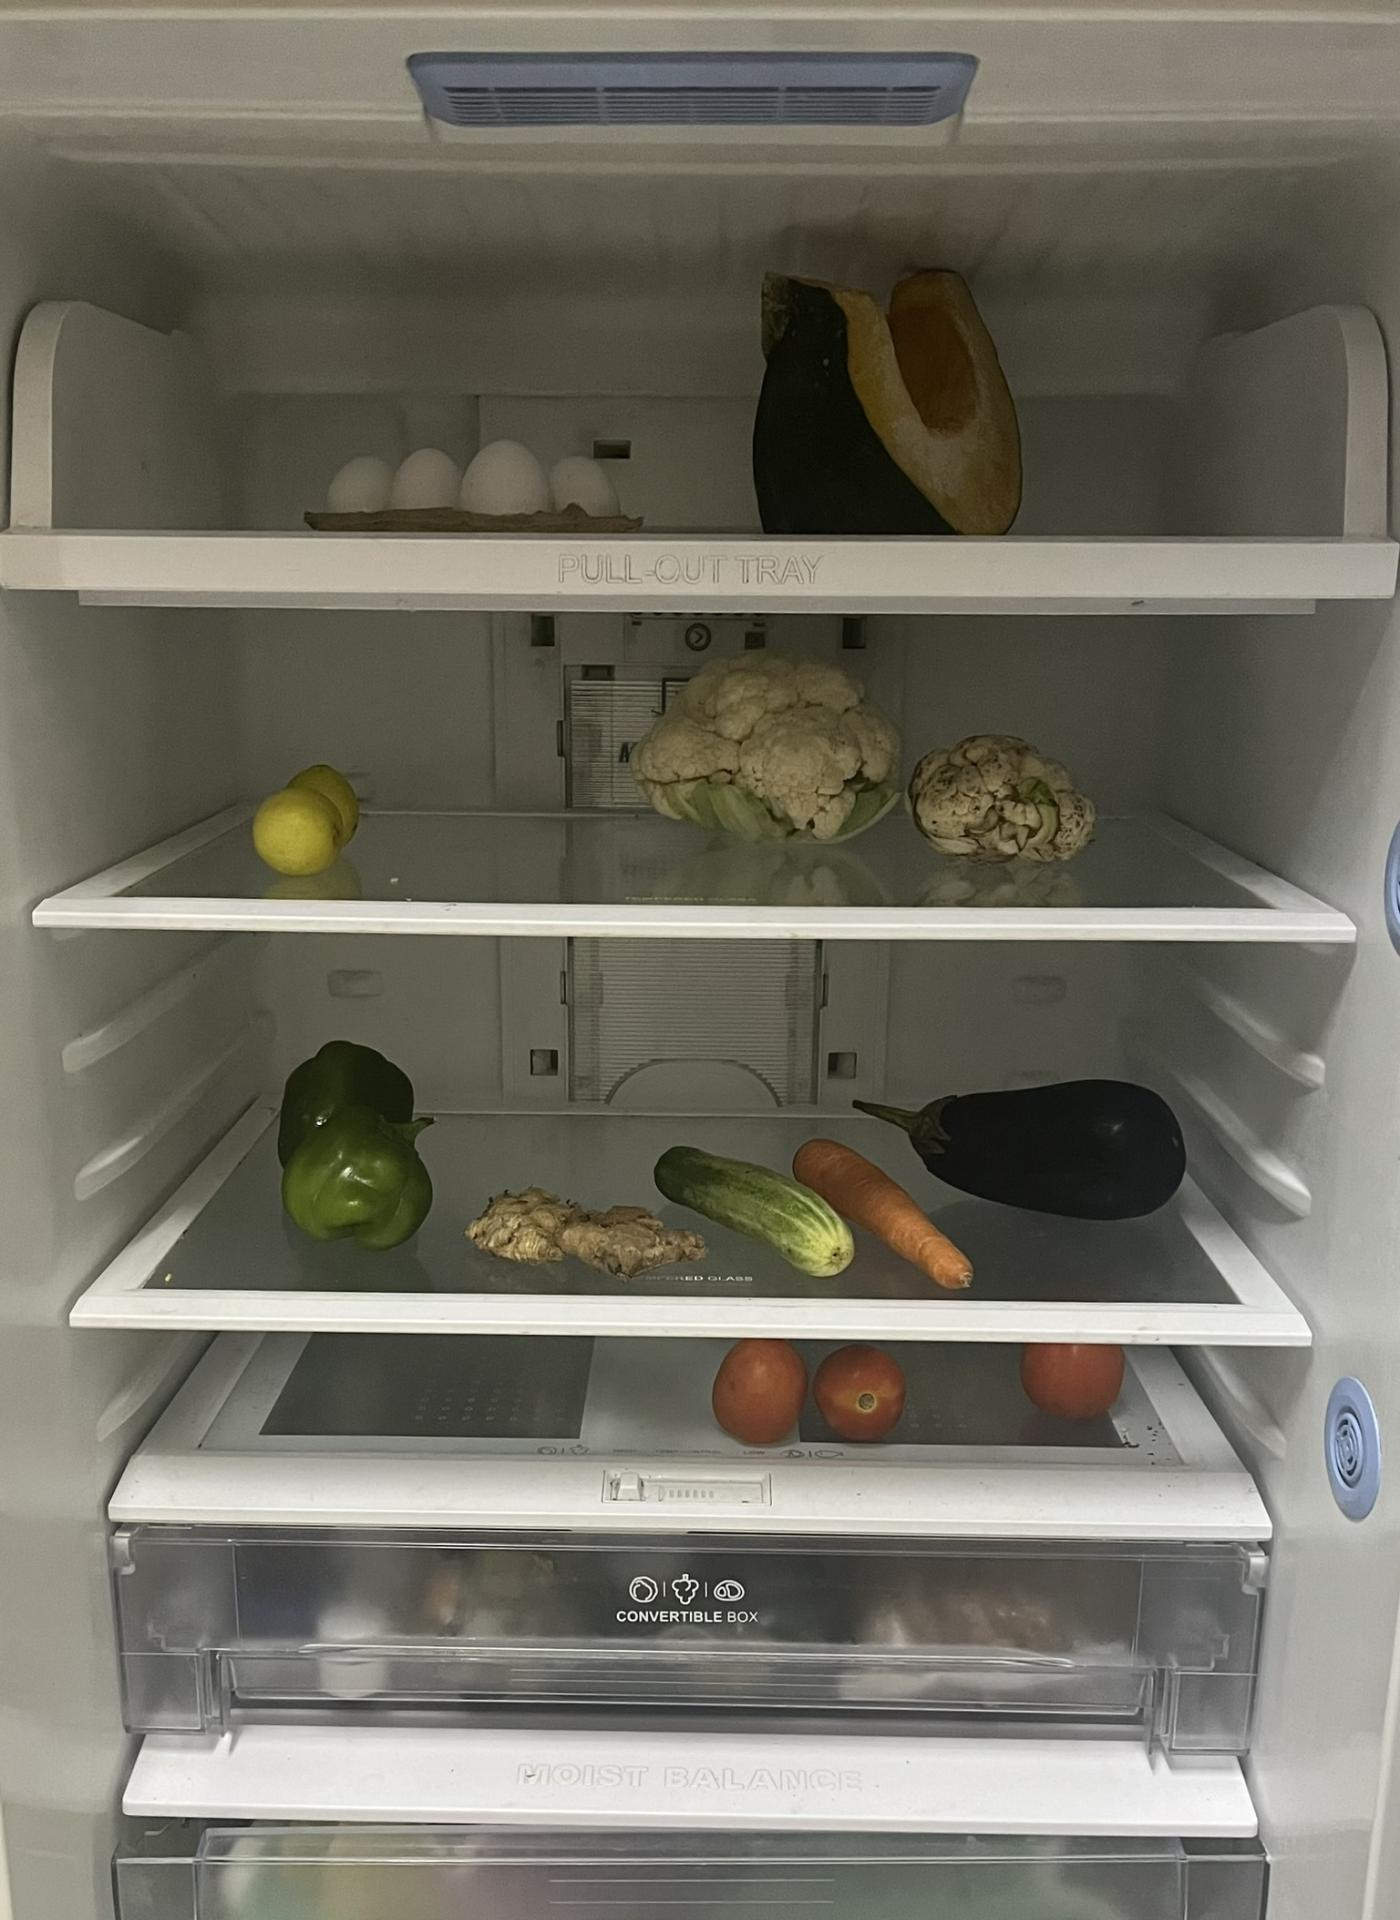brinjal: (853, 1075, 1193, 1215)
capsicum: (276, 1043, 431, 1257)
carrots: (790, 1124, 975, 1292)
cauliflower: (632, 653, 904, 832), (905, 733, 1099, 863)
cucumber: (655, 1136, 854, 1270)
egg: (313, 437, 604, 522)
ginger: (468, 1188, 707, 1278)
lemon: (250, 763, 368, 880)
pumpkin: (740, 258, 1027, 543)
tomato: (711, 1334, 909, 1437), (1020, 1334, 1133, 1416)
